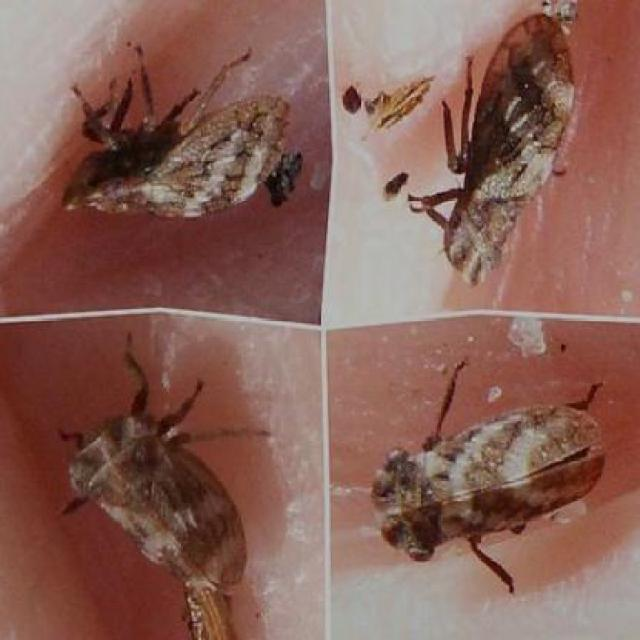brown-planthopper: (66, 401, 247, 640), (437, 11, 577, 288), (362, 404, 607, 559), (68, 80, 289, 222)
